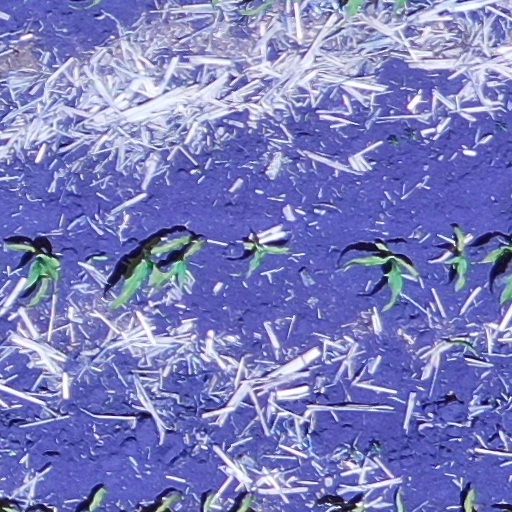planta: (109, 237, 191, 307), (348, 242, 417, 312), (6, 244, 59, 305), (154, 239, 202, 287), (246, 238, 286, 268), (450, 230, 467, 288)
